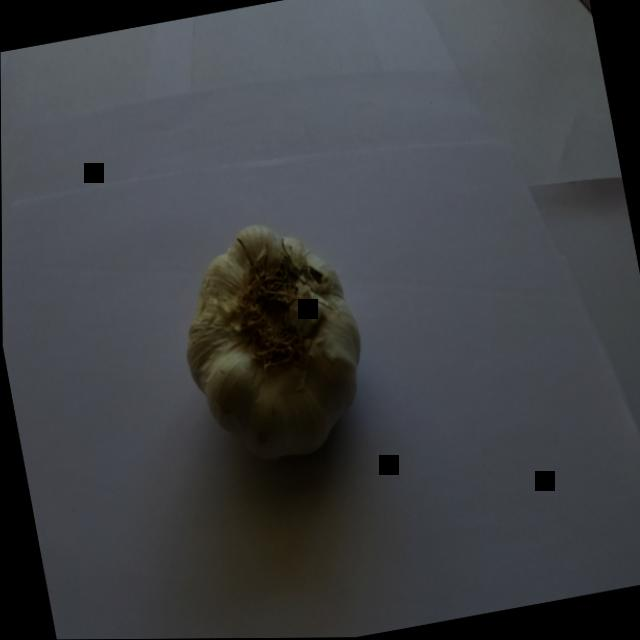Garlic: (153, 200, 387, 491)
